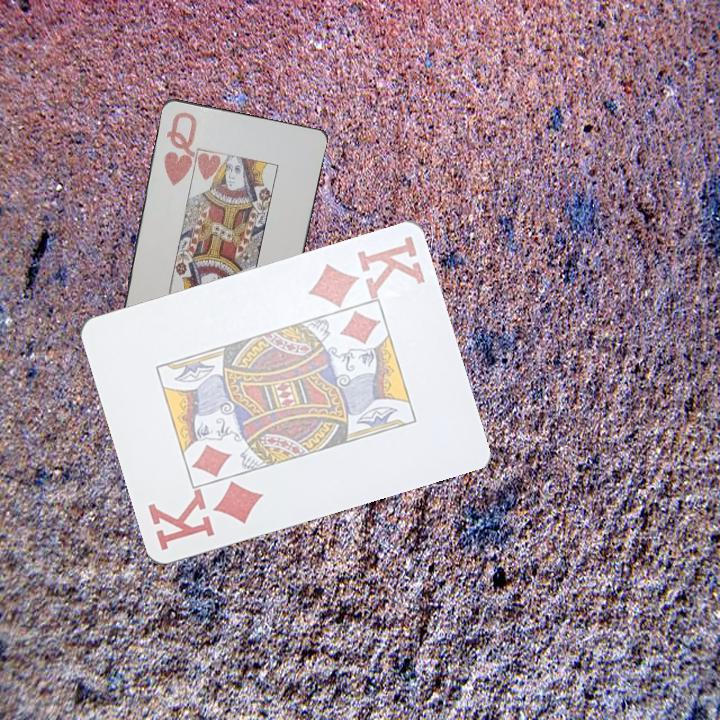Kd: (304, 231, 428, 308), (145, 478, 267, 553)
Qh: (160, 108, 200, 188)
